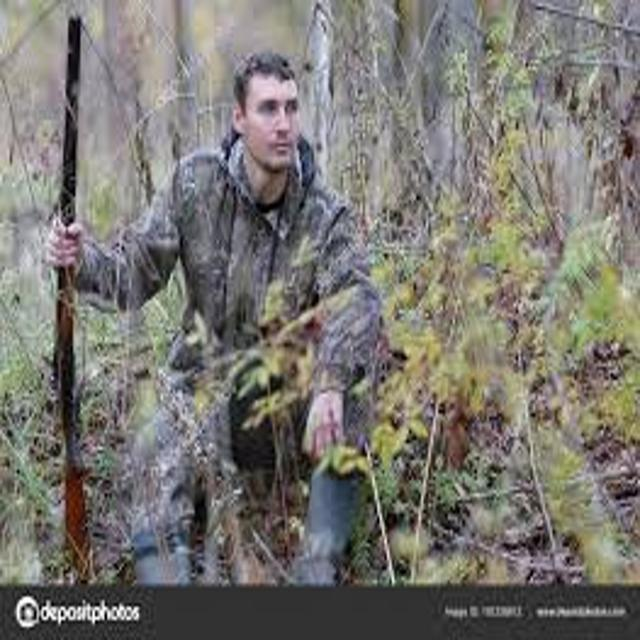gun: (11, 1, 160, 590)
poacher: (18, 34, 428, 589)
